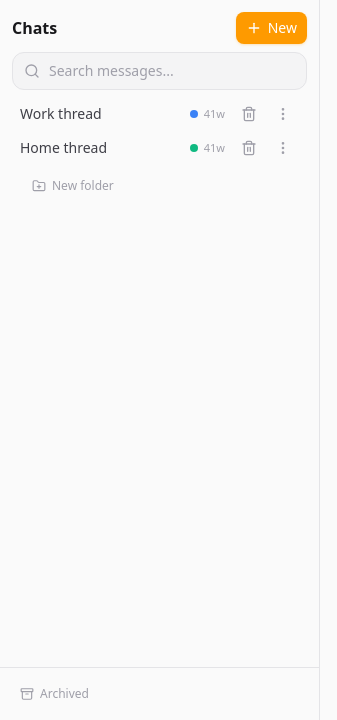
ThreadSidebar prefix syntax › renders an active filter chip and removes the filter when × is clicked
Type "tag:work" into the field with placeholder "Search messages..." at (160,71), box [12,52,307,90]
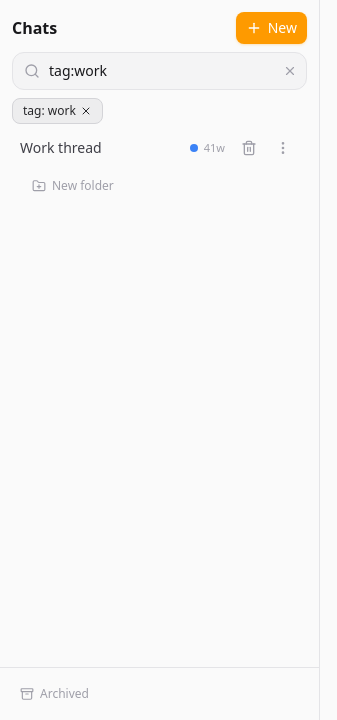
Result: the button with aria-label "Remove filter tag: work" is shown
Result: the text "Home thread" is gone
Click the button with aria-label "Remove filter tag: work" at (57,111), box [12,98,103,124]
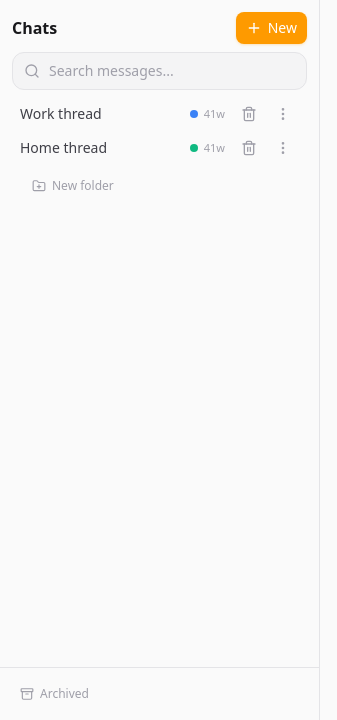
Expected: the text "Work thread" is shown, [20,104,102,124]
Result: the text "Home thread" is shown at [20,138,107,158]
